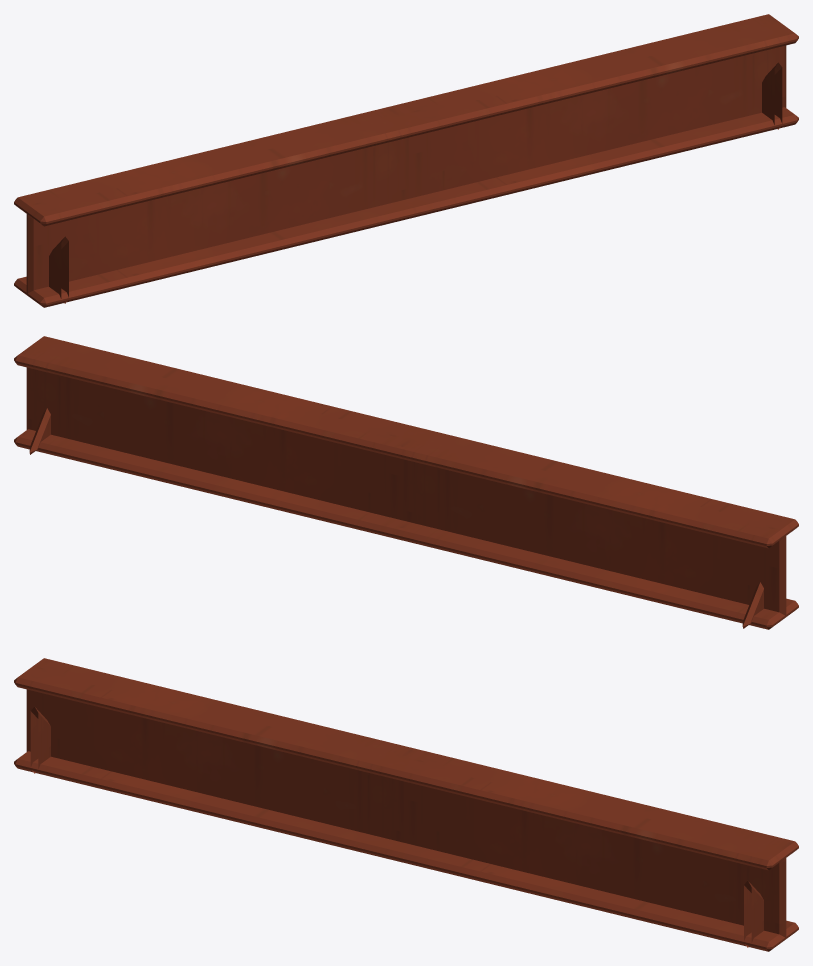
Rendered from WK_STRUCT_BEAM_A_01.glb.
The picture shows the model from 3 angles, top to bottom: view 1: azimuth 30°, elevation 25°; view 2: azimuth 150°, elevation 25°; view 3: azimuth 330°, elevation 25°; orthographic projection.
Parts seen in each view (by area): view 1: WK_STRUCT_BEAM_A_01; view 2: WK_STRUCT_BEAM_A_01; view 3: WK_STRUCT_BEAM_A_01.
Boxes of the visible parts, left/top/right/bottom form: WK_STRUCT_BEAM_A_01: left=14, top=14, right=798, bottom=307; WK_STRUCT_BEAM_A_01: left=14, top=336, right=798, bottom=629; WK_STRUCT_BEAM_A_01: left=14, top=658, right=798, bottom=951.
Size of the model in its own units: 4 by 0.46 by 0.3259.
1 material, 1 textured.
